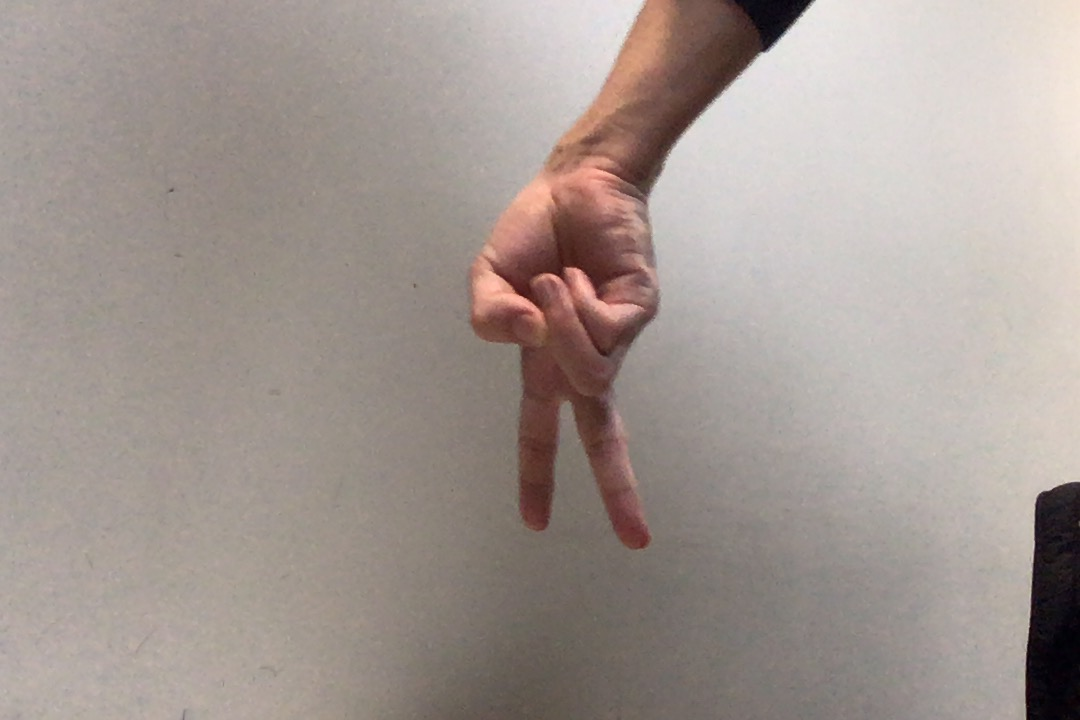peacesign: (459, 176, 665, 555)
